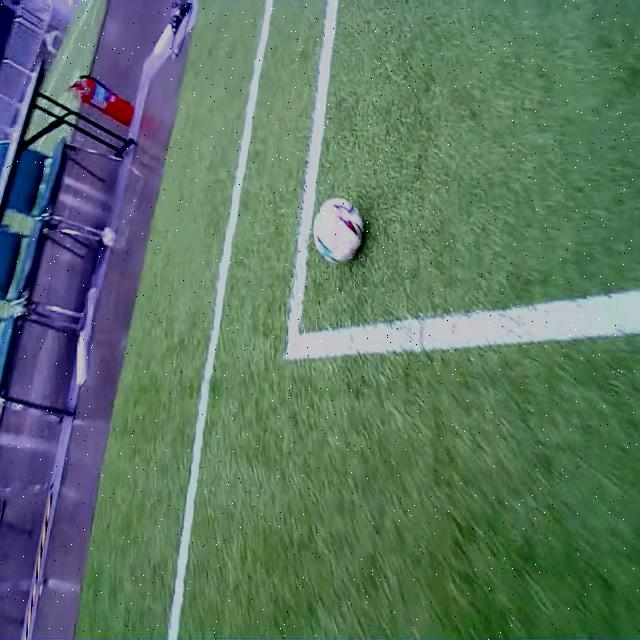ball: (314, 197, 364, 265)
